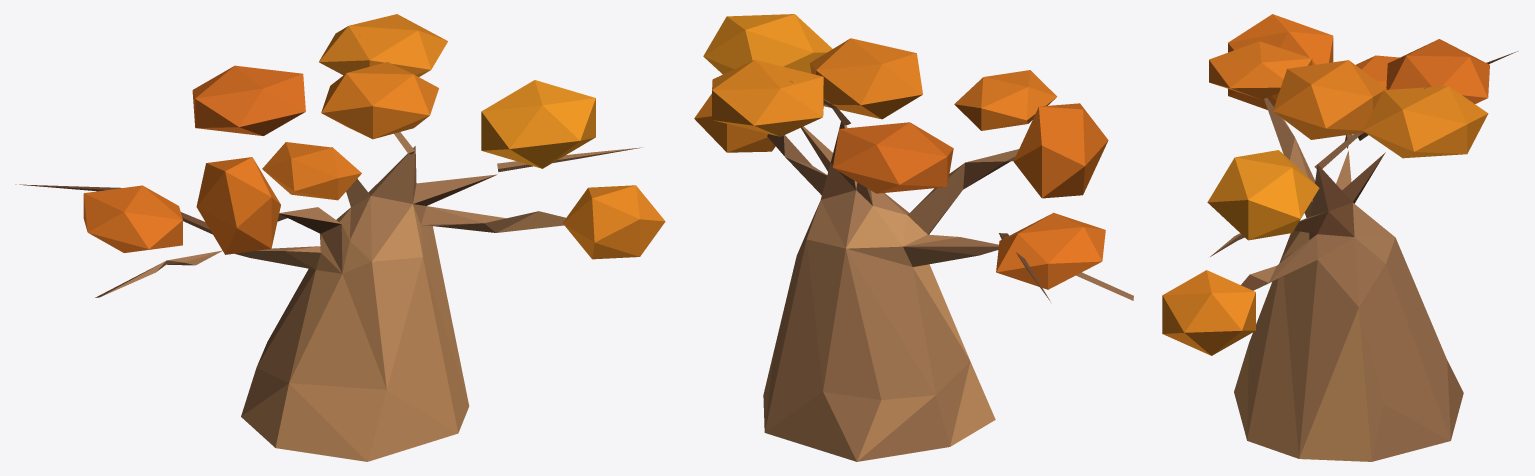
File: baobab_autumn_far.glb
The picture shows the model from 3 angles, left to right: view 1: azimuth 30°, elevation 25°; view 2: azimuth 150°, elevation 25°; view 3: azimuth 270°, elevation 25°; orthographic projection. The views are drawn at different scales.
Parts seen in each view (by area): view 1: baobab_autumn_far; view 2: baobab_autumn_far; view 3: baobab_autumn_far.
Part boxes in pixels (x1=…): baobab_autumn_far: x1=15, y1=14, x2=665, y2=461; baobab_autumn_far: x1=694, y1=14, x2=1133, y2=461; baobab_autumn_far: x1=1162, y1=14, x2=1517, y2=461.
Bounding box in the file's own units: 8.64 × 5.76 × 5.33.
